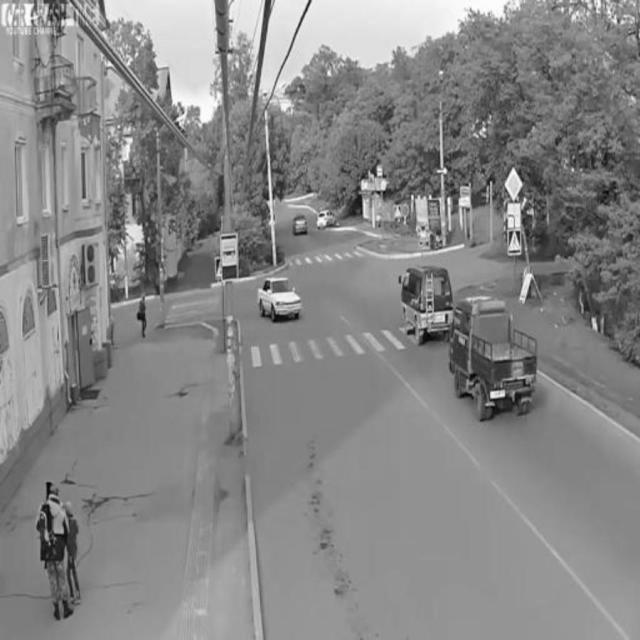person: (37, 474, 81, 624), (134, 287, 151, 345)
vehicle: (448, 291, 539, 419), (399, 262, 456, 345), (257, 277, 304, 327), (291, 211, 311, 238), (316, 209, 341, 229)
